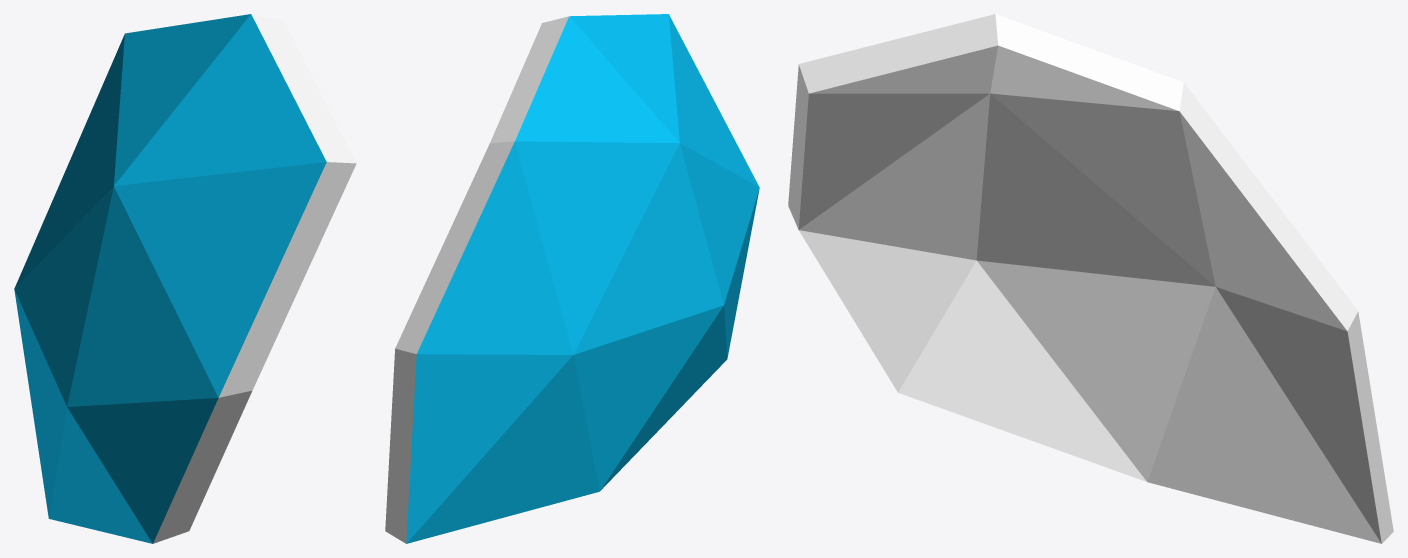
File: alaIzq.obj
3 renders of one model, left to right at view 1: azimuth 30°, elevation 25°; view 2: azimuth 150°, elevation 25°; view 3: azimuth 270°, elevation 25°, orthographic. The views are drawn at different scales.
Parts seen in each view (by area): view 1: polySurface16 polySurface15 polySurface13 polySurface5 polySurfa; view 2: polySurface16 polySurface15 polySurface13 polySurface5 polySurfa; view 3: polySurface16 polySurface15 polySurface13 polySurface5 polySurfa.
Part boxes in pixels (box(x1,y1,x2,y2)): polySurface16 polySurface15 polySurface13 polySurface5 polySurfa: box(14, 14, 356, 543); polySurface16 polySurface15 polySurface13 polySurface5 polySurfa: box(385, 14, 759, 543); polySurface16 polySurface15 polySurface13 polySurface5 polySurfa: box(788, 14, 1393, 543).
Bounding box in the file's own units: 0.1909 × 0.4156 × 0.4426.
1 material, 1 textured.
